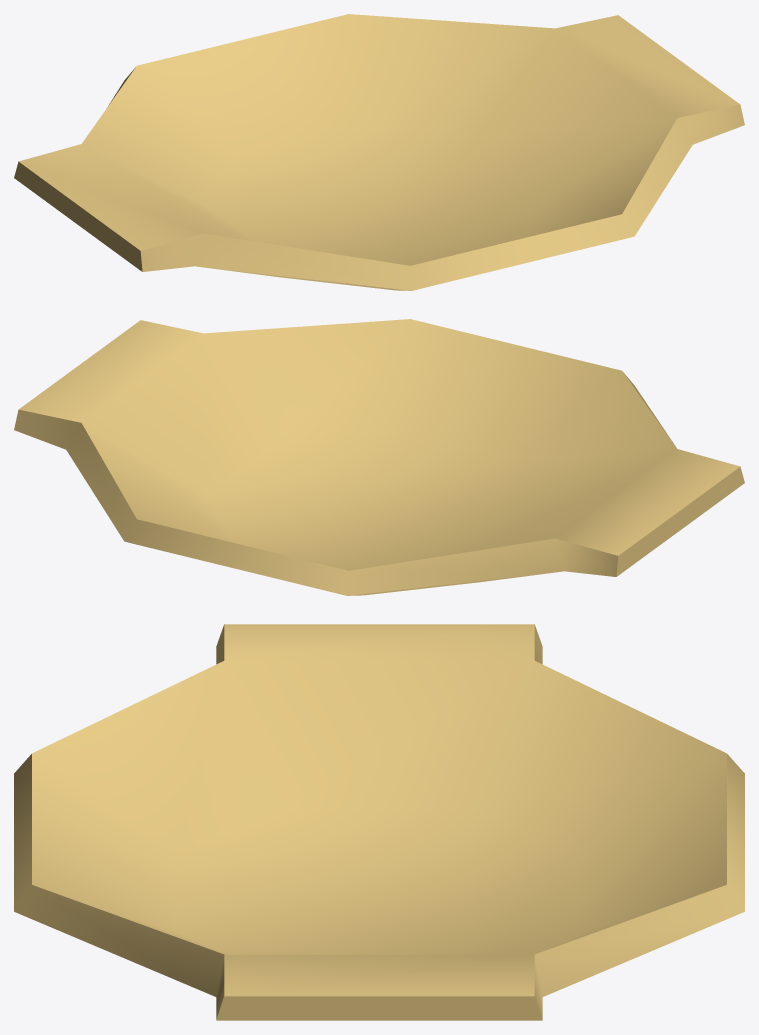
Rendered from Wicker2.fbx.
3 renders of one model, top to bottom at view 1: azimuth 30°, elevation 25°; view 2: azimuth 150°, elevation 25°; view 3: azimuth 270°, elevation 25°, orthographic. The views are drawn at different scales.
Visible parts, largest first — view 1: Wicker_plate; view 2: Wicker_plate; view 3: Wicker_plate.
Part boxes in pixels (x1,y1,x2,y2): Wicker_plate: [14, 14, 744, 290]; Wicker_plate: [14, 319, 744, 595]; Wicker_plate: [14, 624, 744, 1020].
Bounding box in the file's own units: 53.33 × 7.28 × 44.09.
